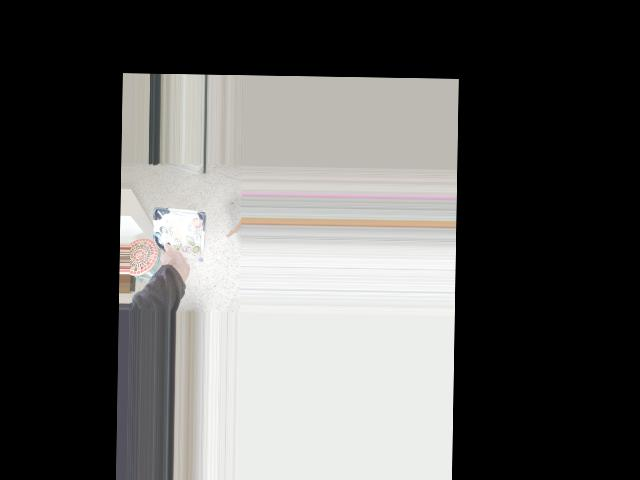cheese: (145, 209, 213, 277)
